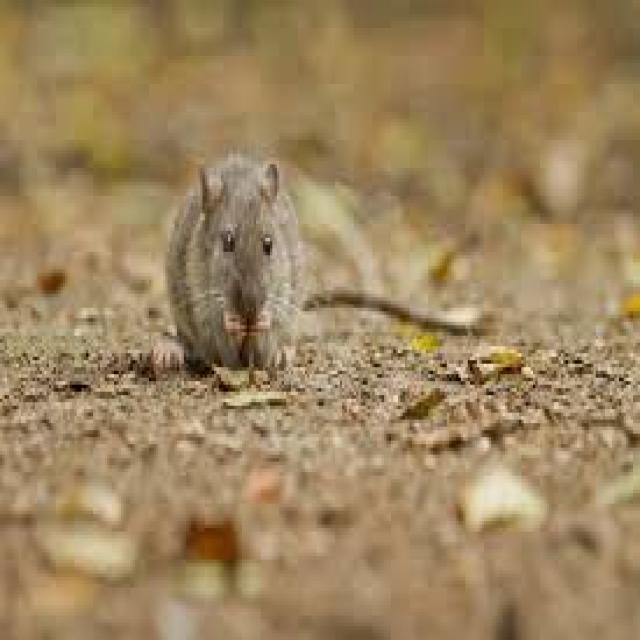Rat: (116, 59, 489, 388)
